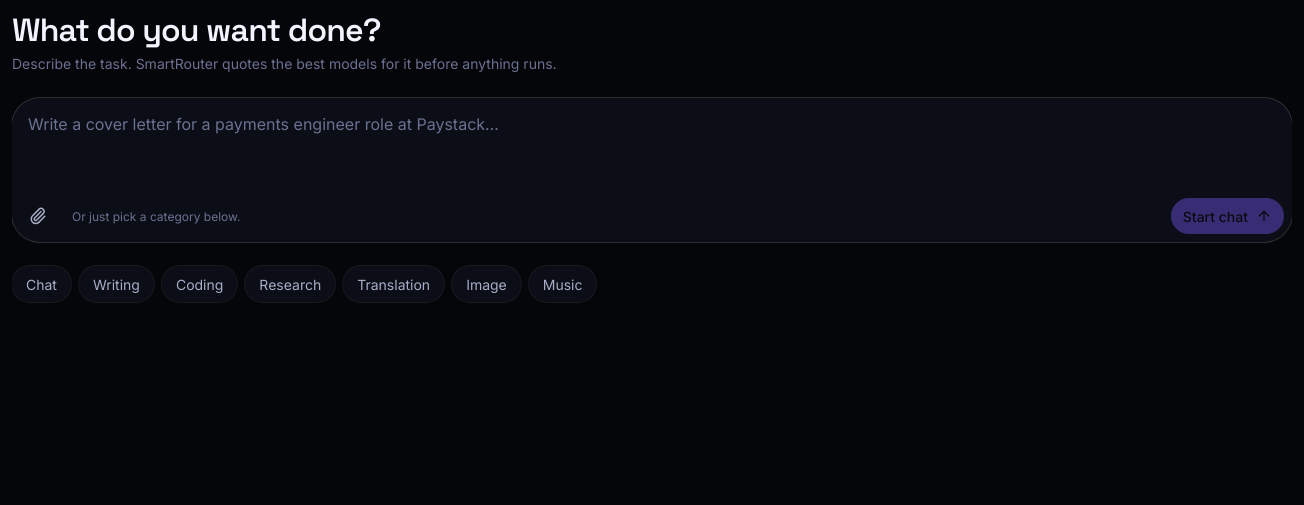
Test: NewChat signed out (Handover "Guest mode") › shows recommendations from POST /recommend without signing in
Replace the text in the text box named "Describe the task" with "Write a cover letter" at coordinates (652, 145), box x1=12 y1=98 x2=1292 y2=192
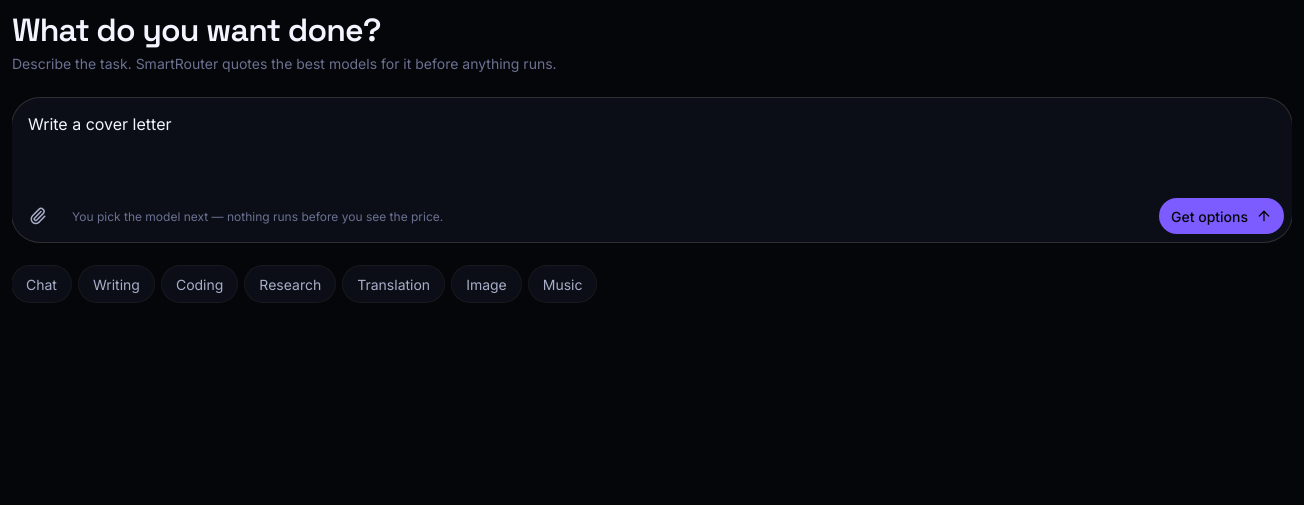
Click the button "Get options" at coordinates (1222, 216), box x1=1159 y1=198 x2=1284 y2=234
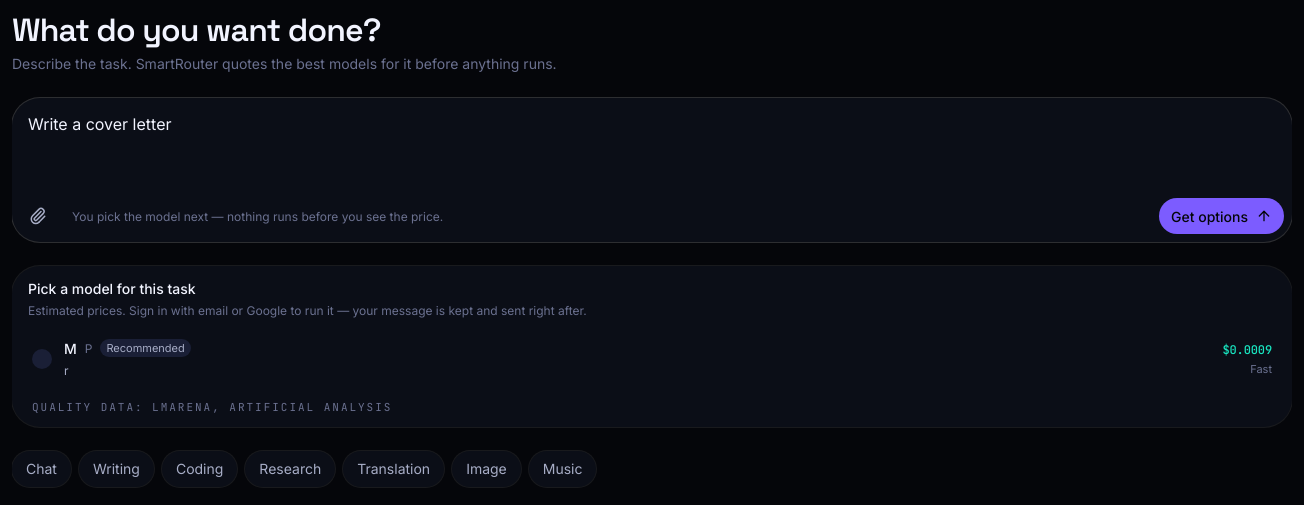
Now the option "M P Recommended r $0.0009 Fast" is shown, box x1=20 y1=328 x2=1284 y2=391
